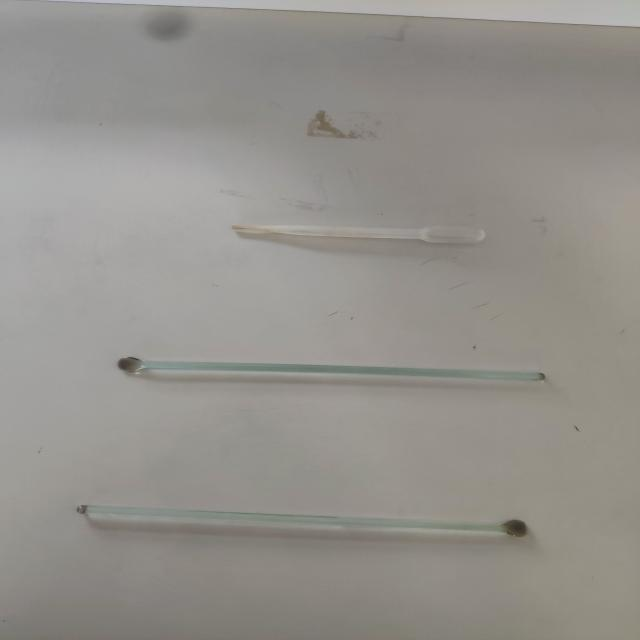Glass_Rod: (52, 466, 563, 572), (66, 341, 601, 418)
Pipette: (209, 200, 497, 268)
